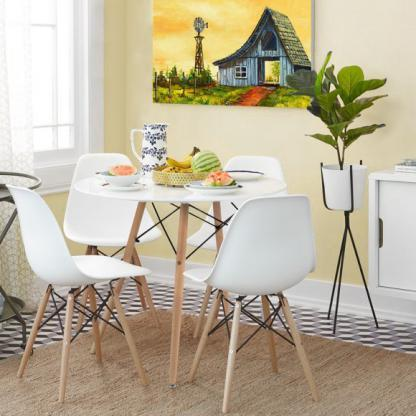chair: (2, 182, 147, 410), (184, 199, 328, 416), (57, 143, 163, 308), (185, 152, 297, 306)
table: (81, 172, 282, 384)
